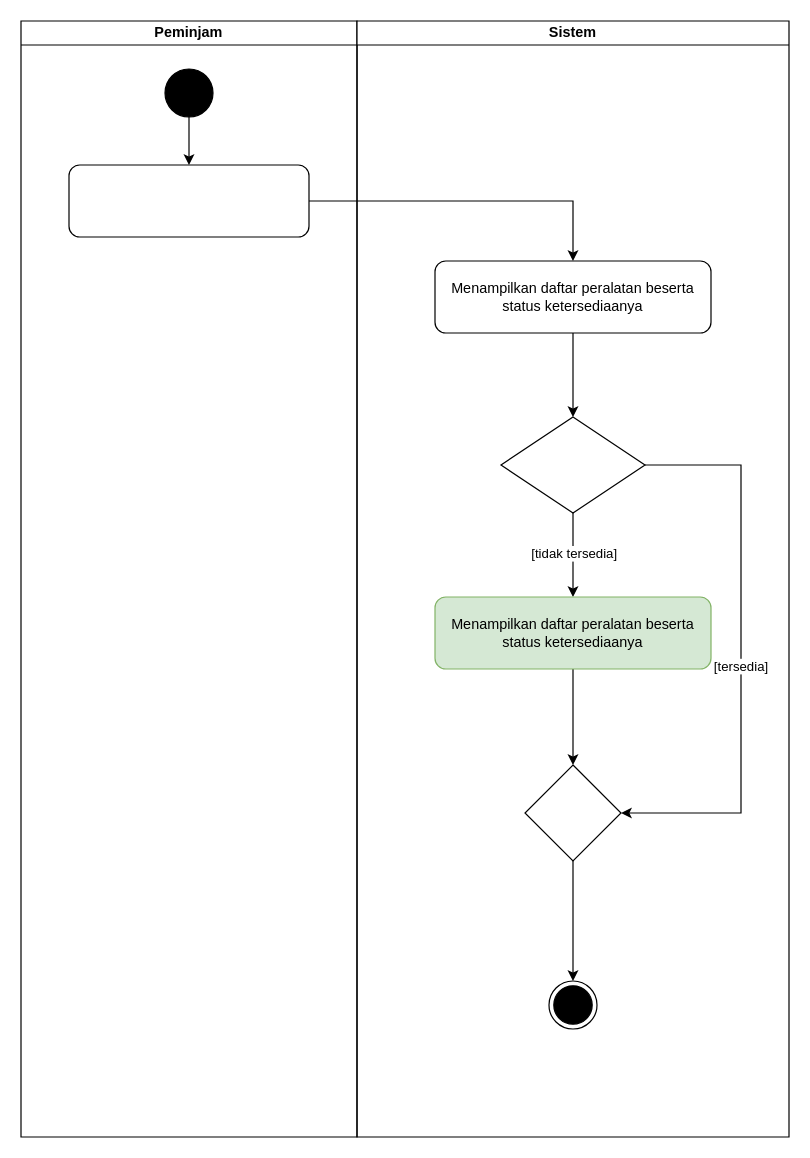
Some shapes in this 810 by 1158 pixel diagram are drawn without their labels. Here are the shapes that lost their labels. From the top down, the centre of each, then its label:
At point 188,200: "Membuka fungsi Lihat ketersediaan peralatan".
At point 572,464: "Peralatan tersedia?".
